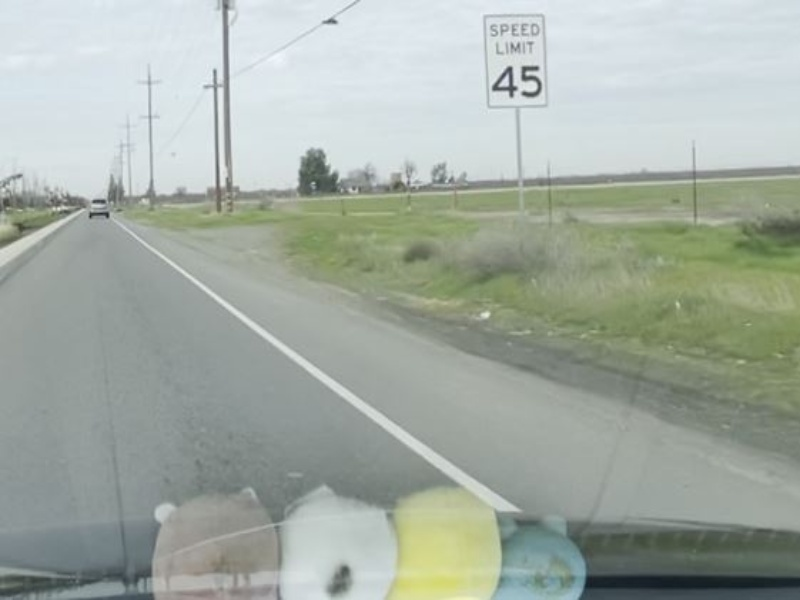speed limit sign: (479, 11, 550, 111)
